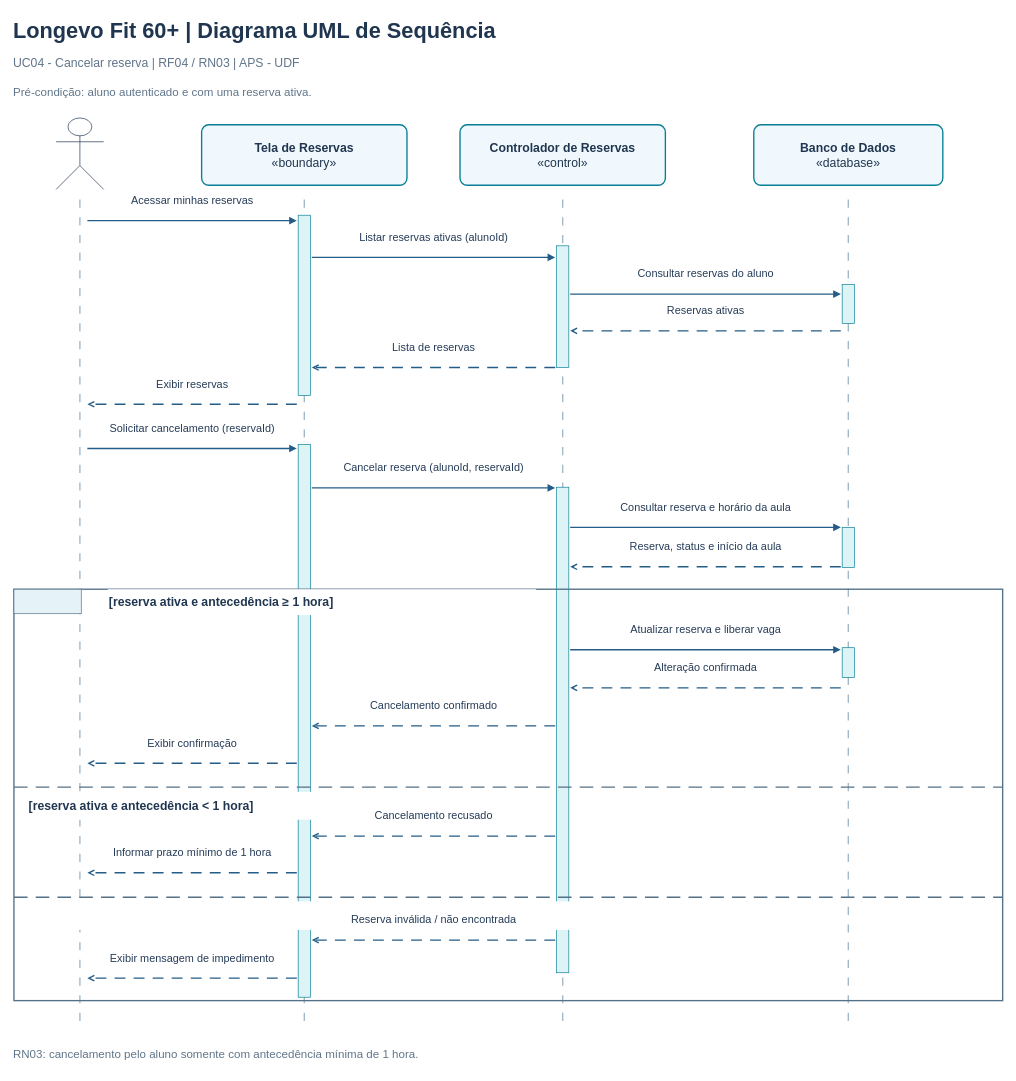
Some shapes in this 1016 by 1081 pixel diagram are drawn without their labels. Each missing label, with the box of its shape:
[reserva inexistente, não pertencente ao aluno ou inativa]: (27, 901, 660, 930)
alt: (13, 589, 81, 614)
Aluno: (55, 117, 104, 189)
